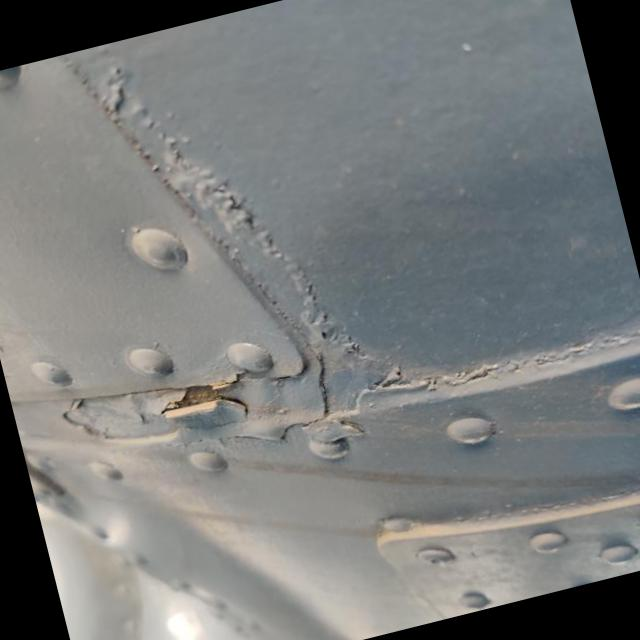Crack: (133, 373, 286, 438)
